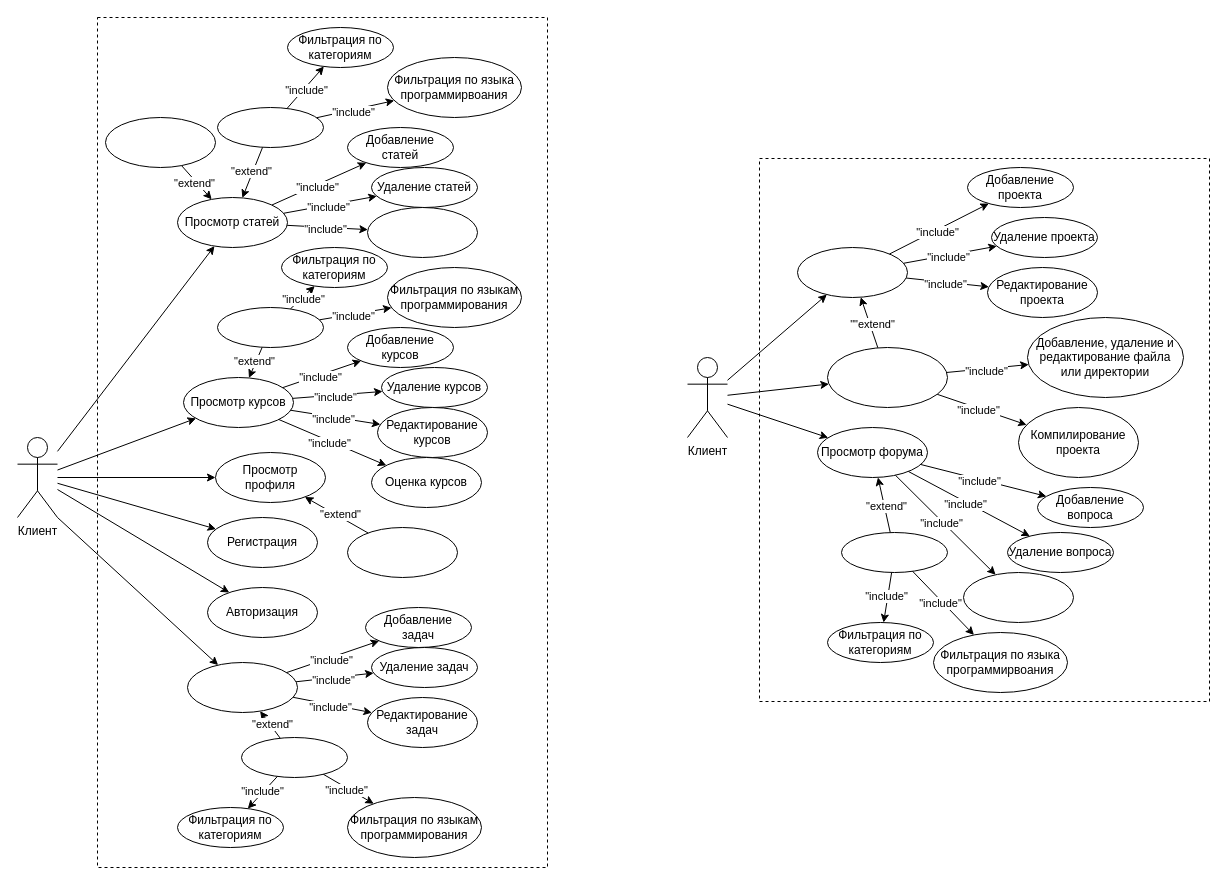
This 1227x885 diagram has some shape labels left out. Each missing label, with the box of its shape:
Открытие онлайн редактор проекта: (826, 346, 948, 408)
Оценка и комментирование статей: (104, 116, 216, 168)
Просмотр задач: (186, 662, 298, 712)
Просмотр проекта: (796, 246, 908, 298)
Редактирование вопроса: (962, 572, 1074, 622)
Редактирование профиля: (346, 526, 458, 578)
Редактирование статей: (366, 206, 478, 258)
Фильтрация задач: (240, 736, 348, 778)
Фильтрация курсов: (216, 306, 324, 348)
Фильтрация статей: (216, 106, 324, 148)
Фильтрация форума: (840, 532, 948, 572)
